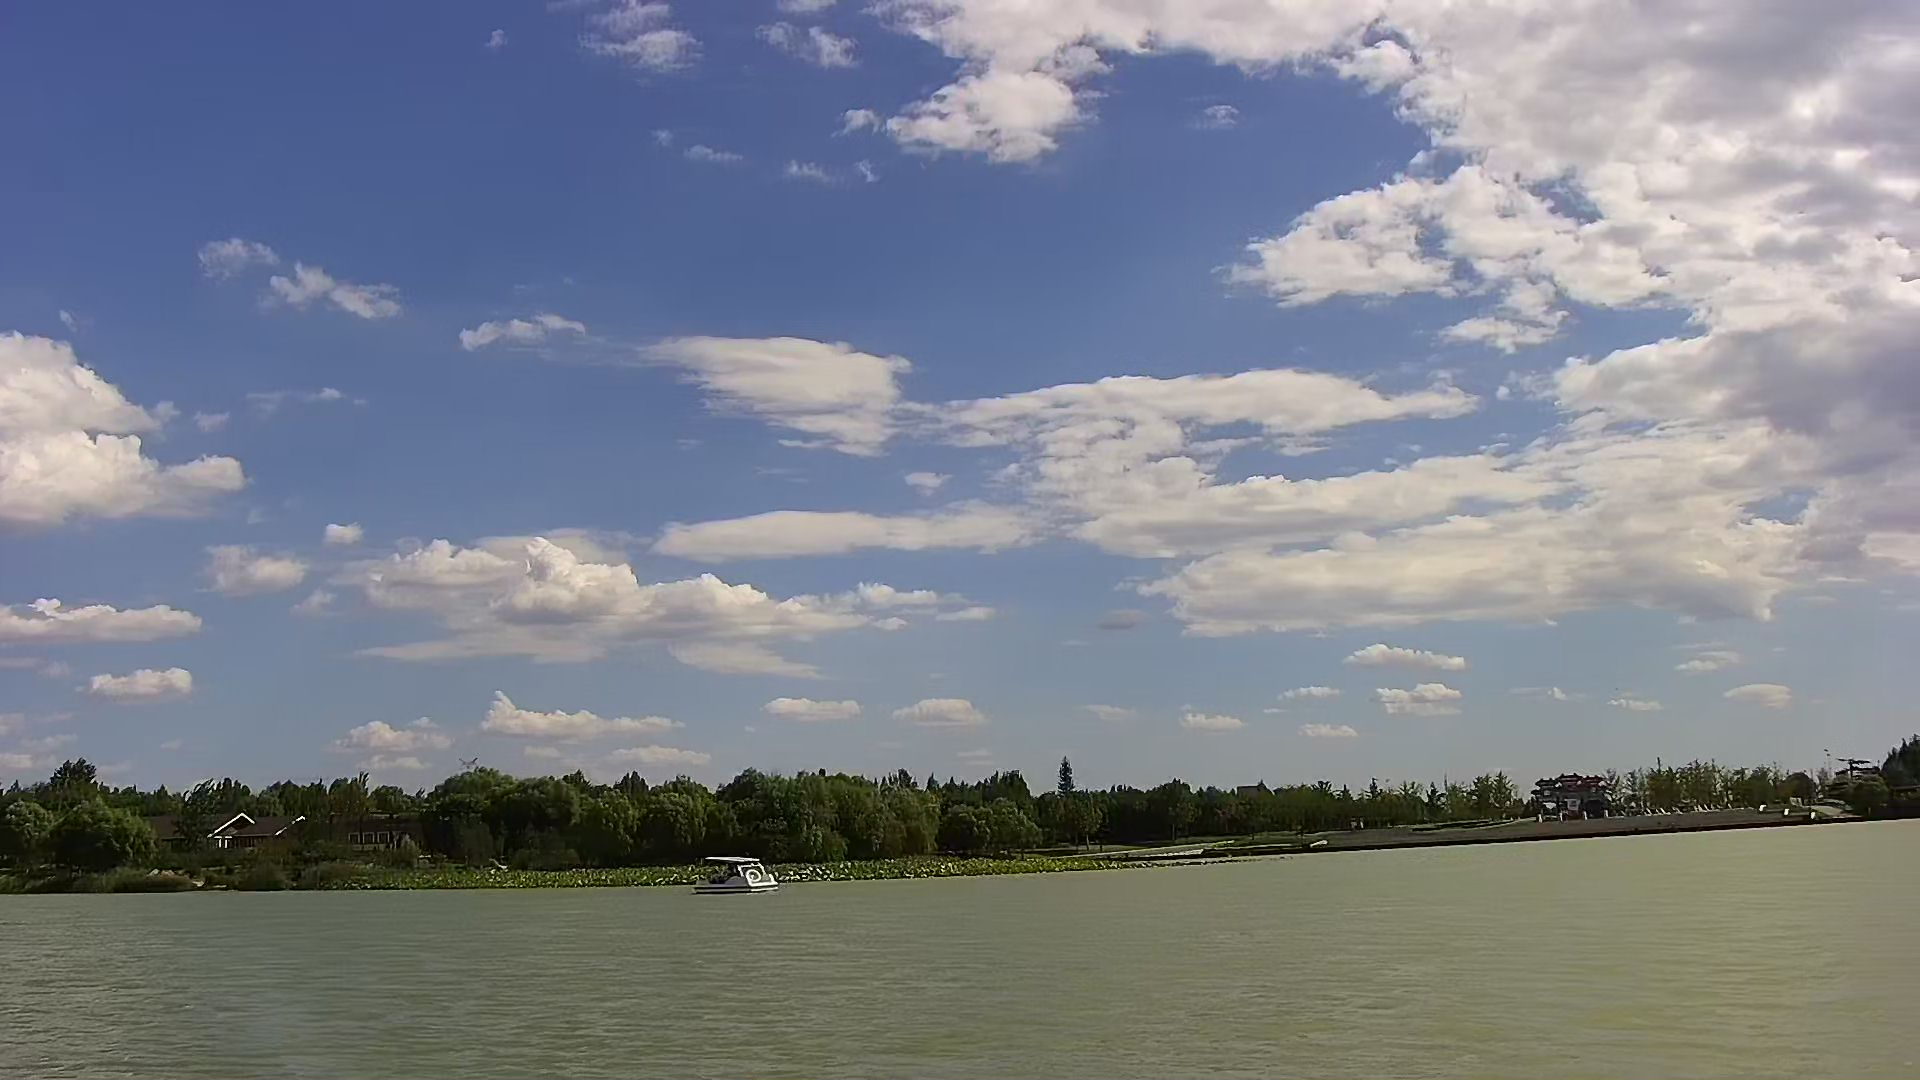boat: (688, 855, 785, 899)
